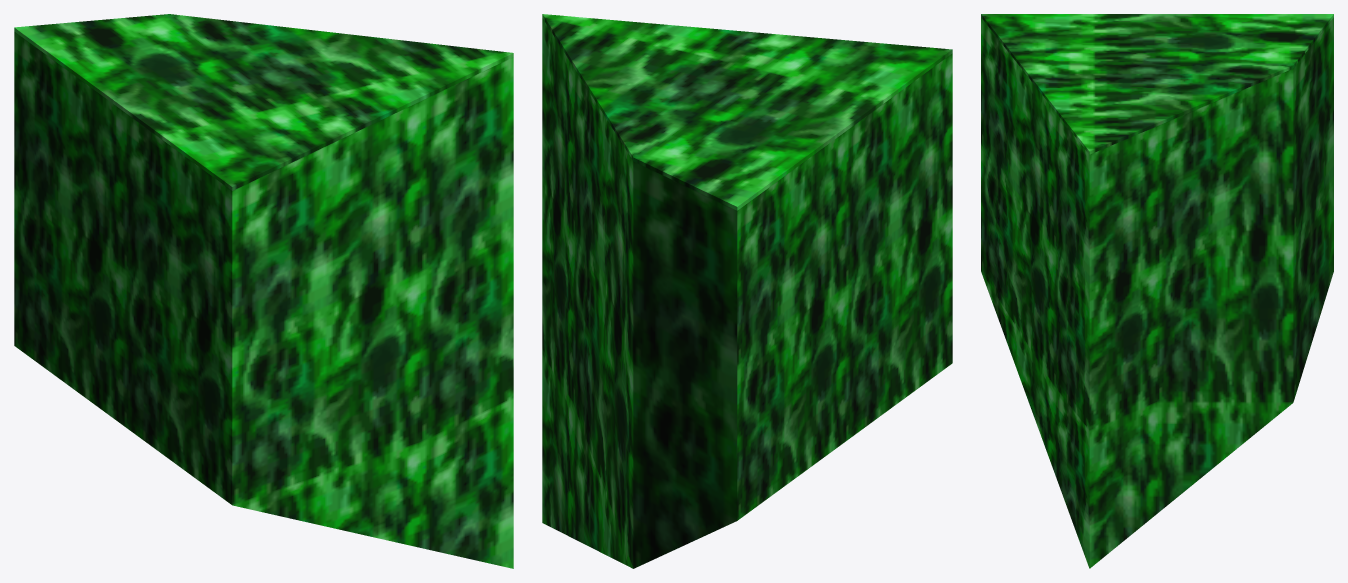
3 views of the same model, side by side, from view 1: azimuth 30°, elevation 25°; view 2: azimuth 150°, elevation 25°; view 3: azimuth 270°, elevation 25° (orthographic). The views are drawn at different scales.
Visible parts, largest first — view 1: kb3_b; view 2: kb3_b; view 3: kb3_b.
Boxes of the visible parts, box(x1,y1,x2,y2) form: kb3_b: box(14, 14, 513, 568); kb3_b: box(542, 14, 952, 568); kb3_b: box(981, 14, 1333, 568).
Bounding box in the file's own units: 3.6 × 5.1 × 3.91.
1 material, 1 textured.
